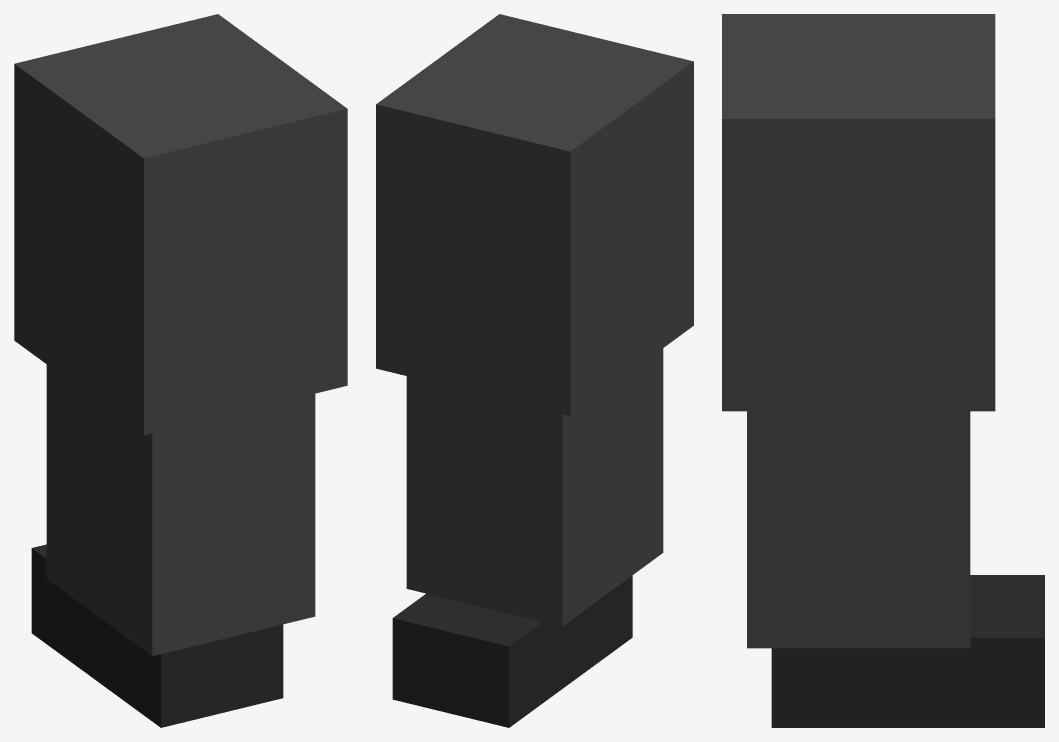
File: leg.obj
3 renders of one model, left to right at view 1: azimuth 30°, elevation 25°; view 2: azimuth 150°, elevation 25°; view 3: azimuth 270°, elevation 25°, orthographic. The views are drawn at different scales.
Bounding box in the file's own units: 1 × 2.8 × 1.3.
Materials: 1 (1 with a texture image).
